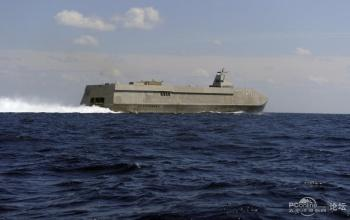warship: (82, 72, 268, 113)
